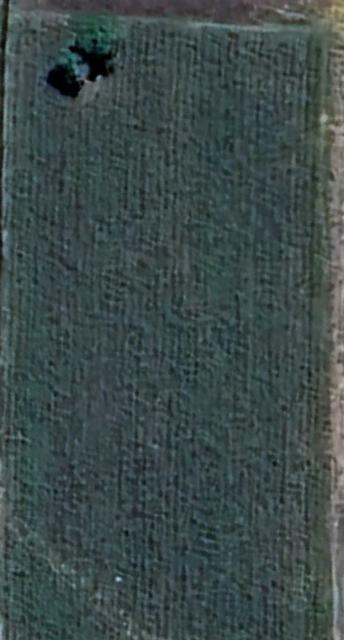Farms: (2, 9, 337, 640)
